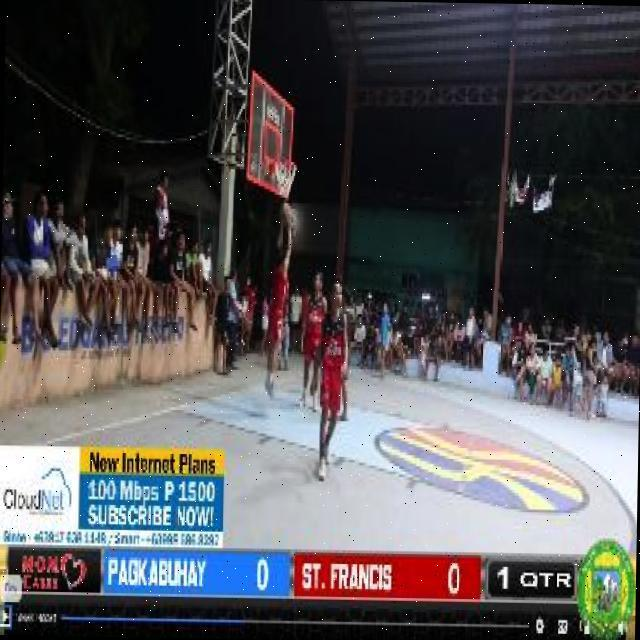ball: (277, 200, 293, 228)
hoop: (270, 159, 299, 174)
